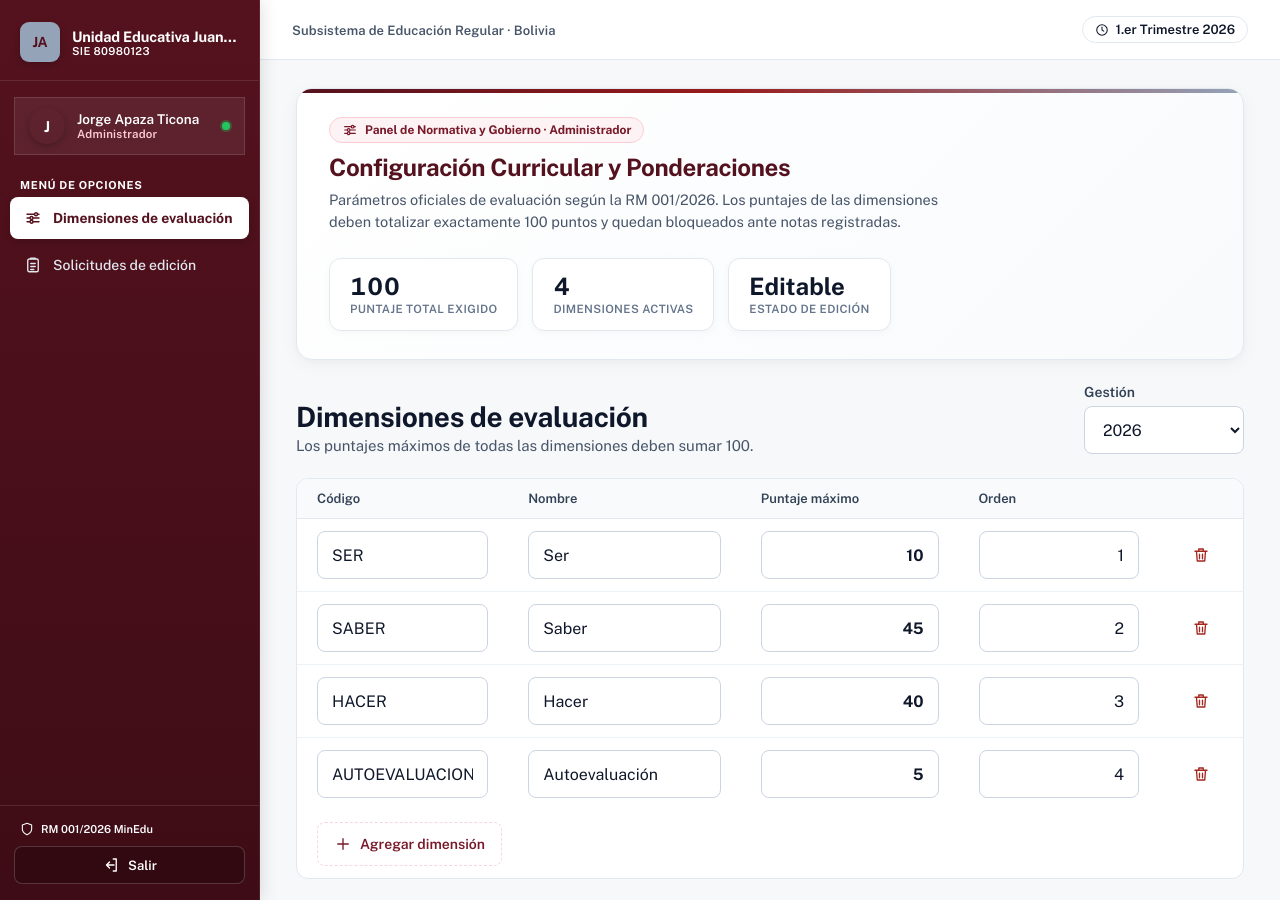
Scenario: Dimensiones de evaluación (US-18, criterios 6 y 7) › debe bloquear la tabla si la gestión ya tiene notas
Click the button named "Quitar Autoevaluación" at [1201, 774], box [1179,752,1223,796]
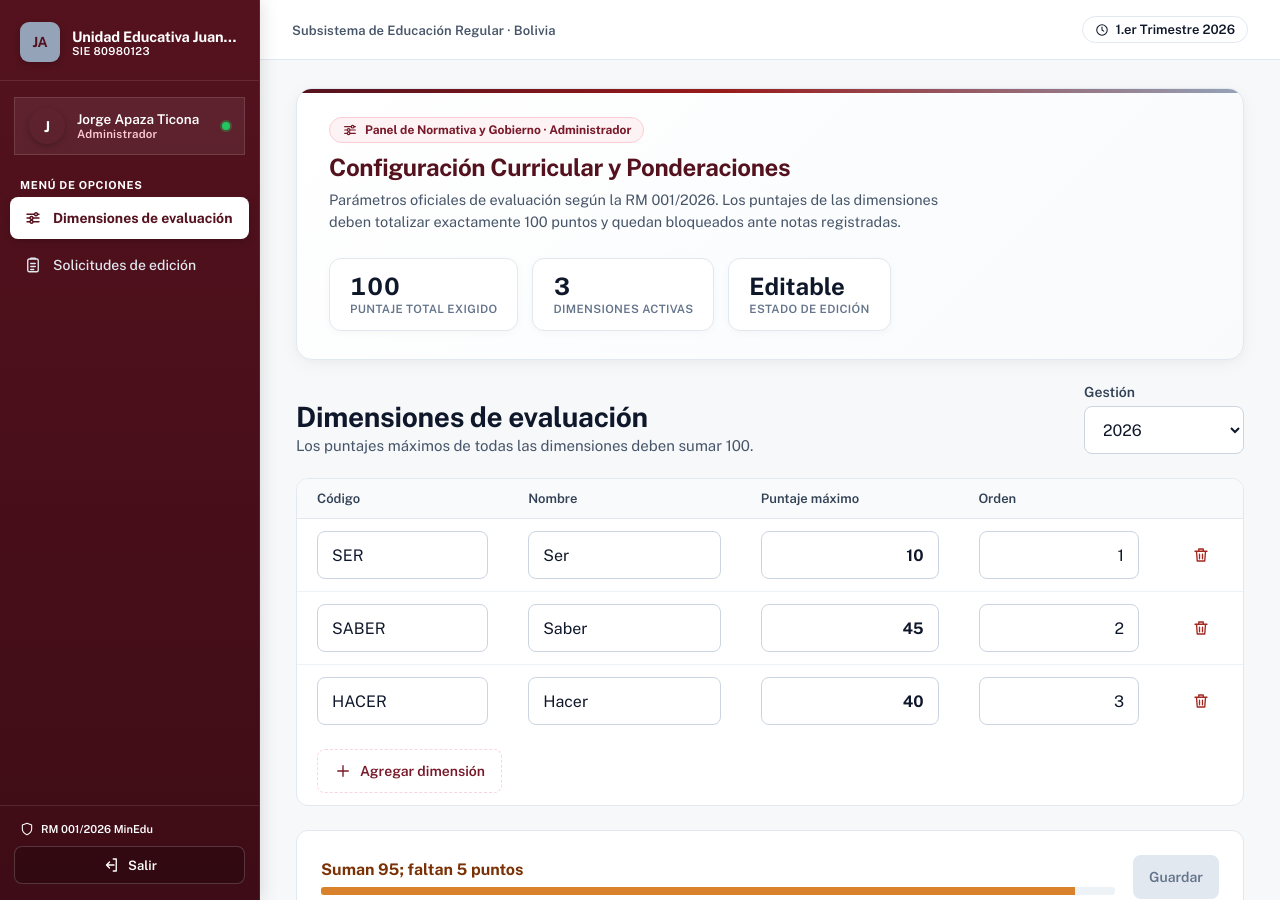
Click the button "Agregar dimensión" at [410, 771], box [317,749,502,793]
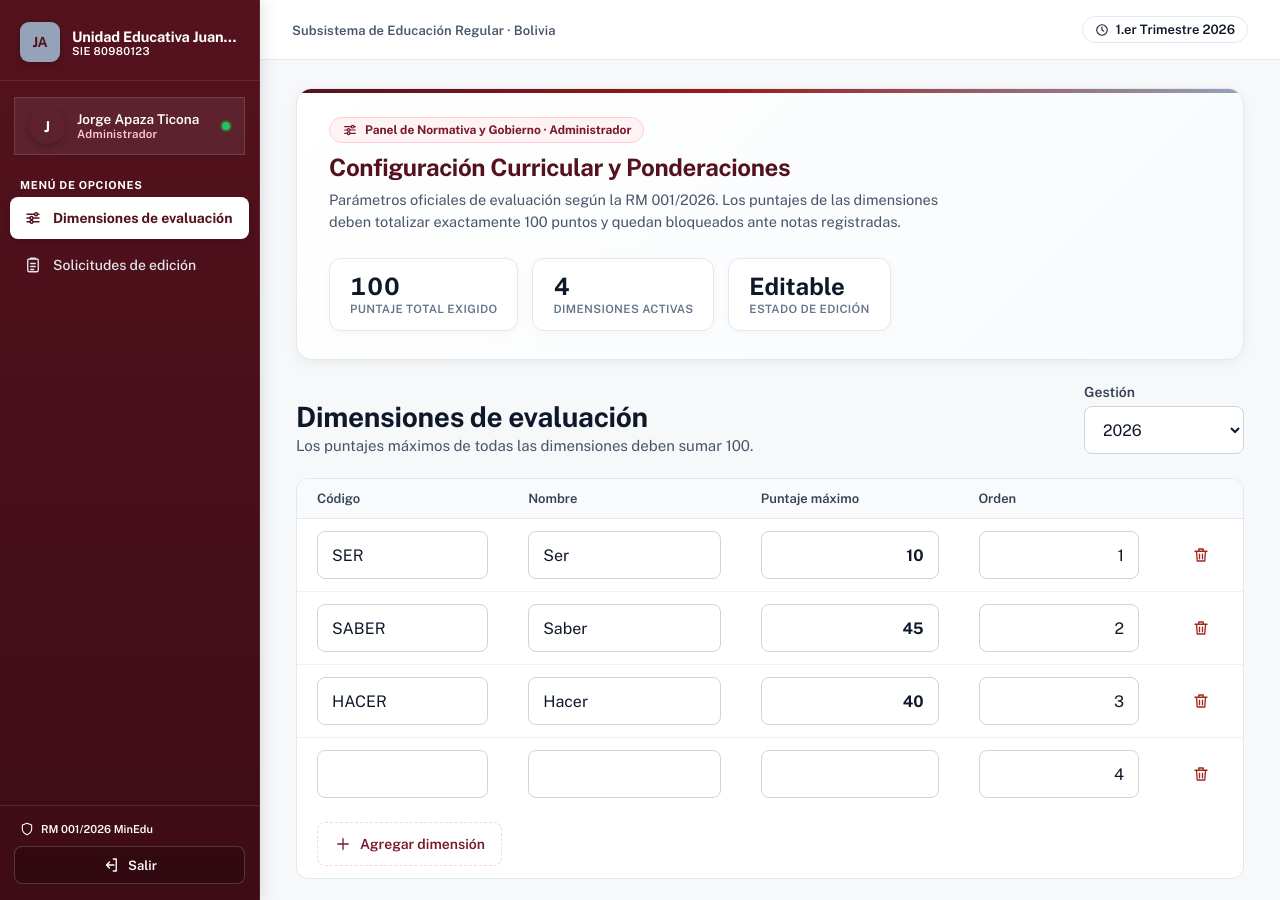
Check: the number of rows is 5, box [297,479,1243,519]; [297,519,1243,592]; [297,592,1243,665]; [297,665,1243,738]; [297,738,1243,810]
Type "auto" into the field named "Código de la dimensión 4" at [403, 774], box [317,750,488,798]
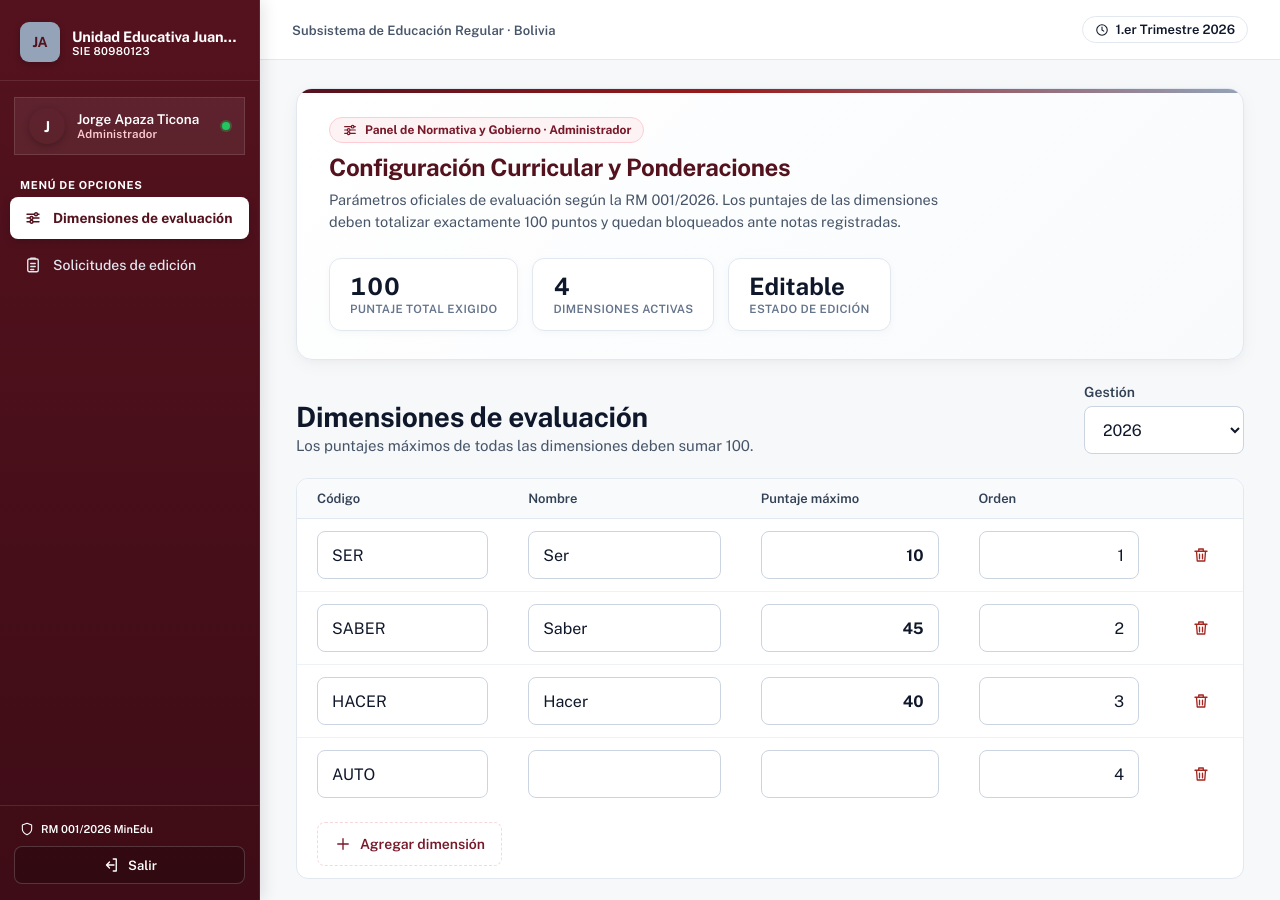
Type "Autoevaluación" into the field named "Nombre de la dimensión 4" at [624, 774], box [528,750,721,798]
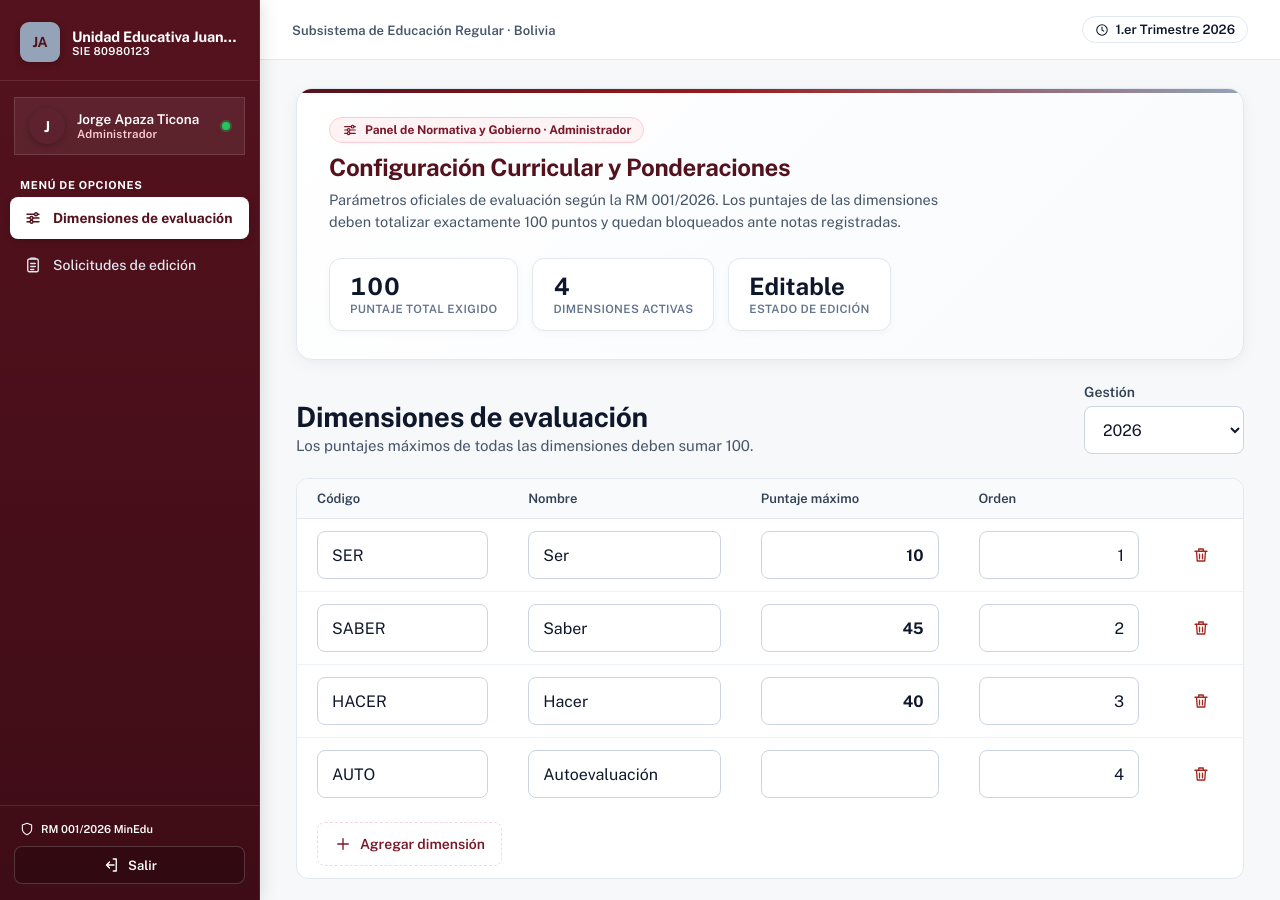
Type "5" into the field named "Puntaje máximo de Autoevaluación" at [850, 774], box [761,750,938,798]
(page scrolled)
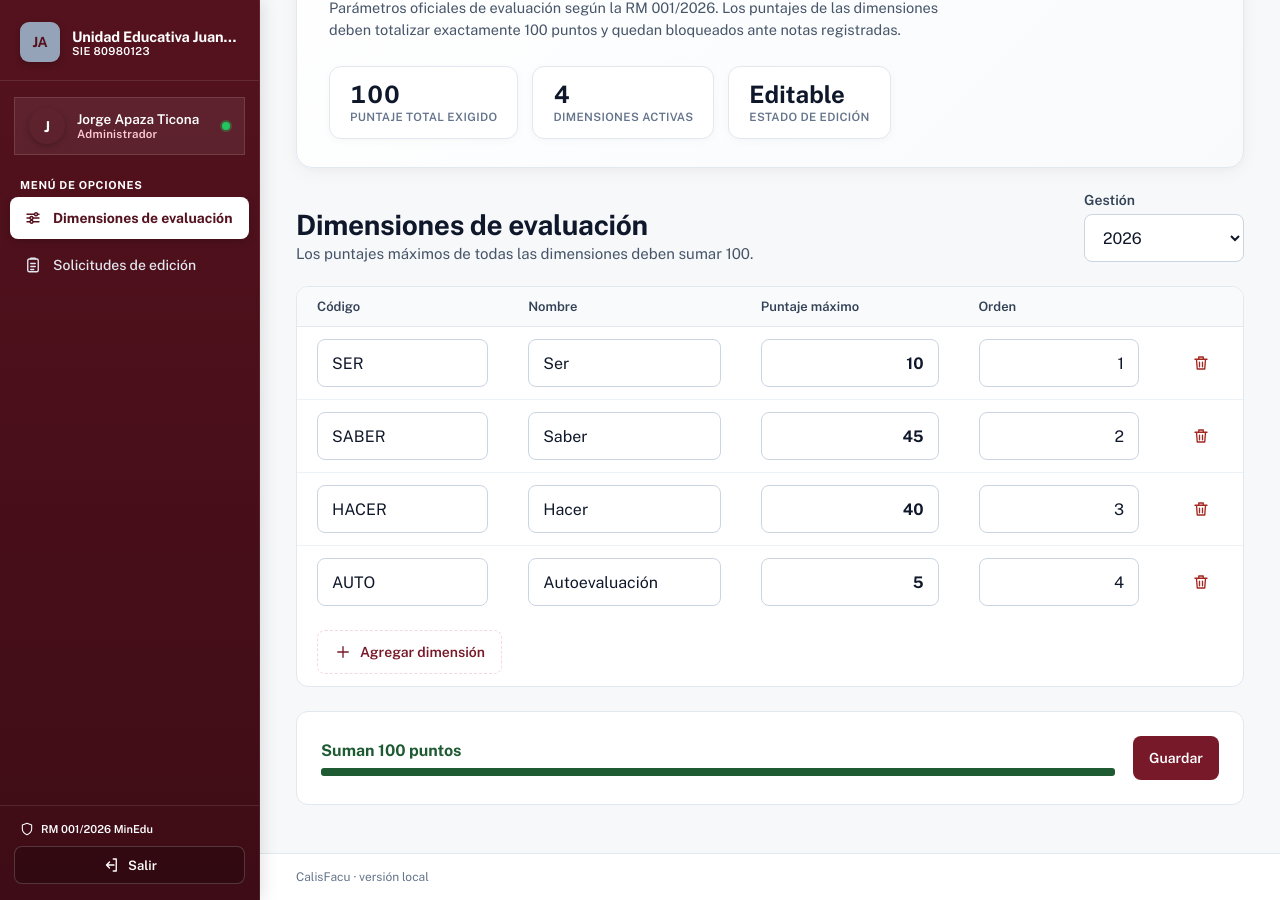
Click the button "Guardar" at [1176, 758], box [1133,736,1219,780]
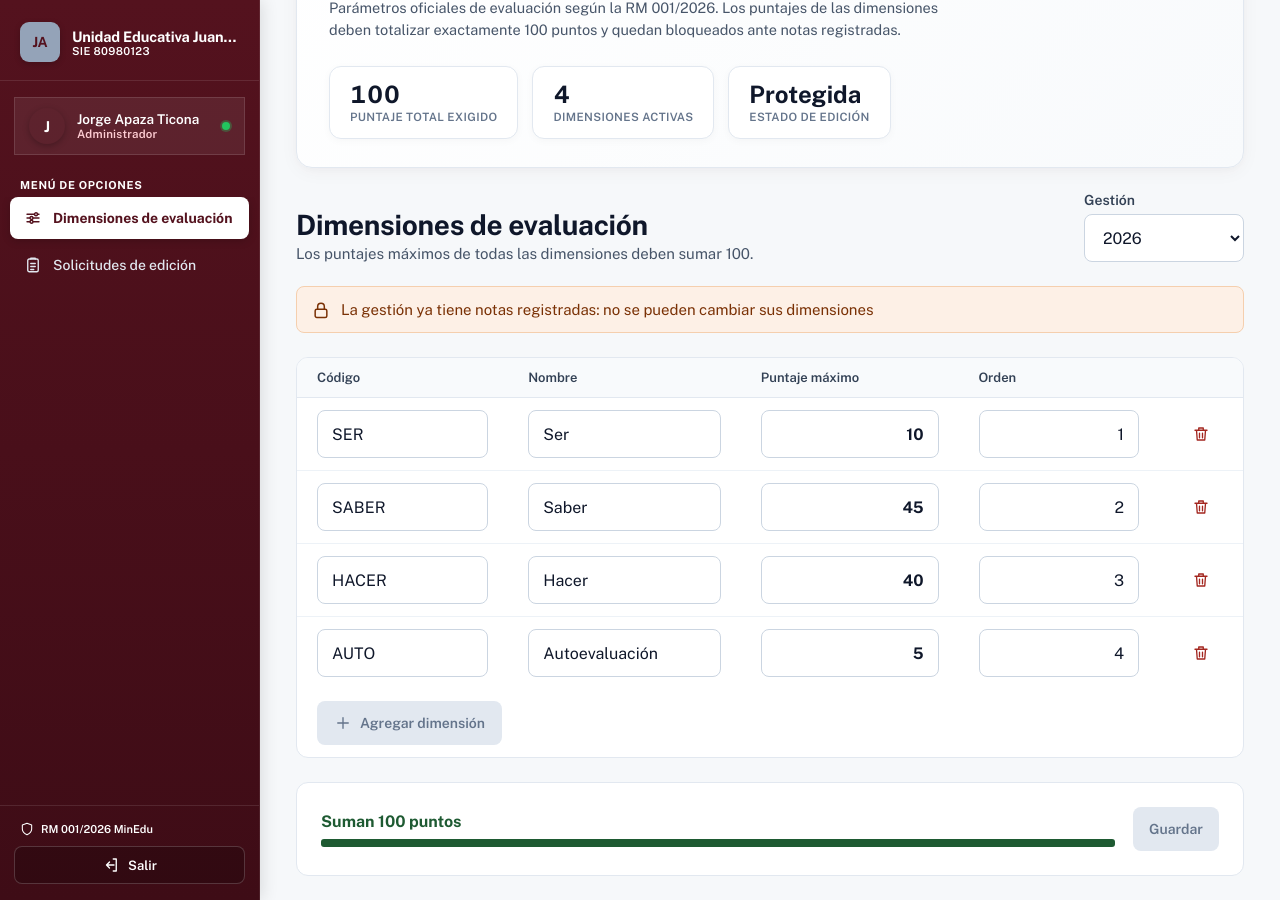
Check: the text "La gestión ya tiene notas registradas: no se pueden cambiar sus dimensiones" is shown, box [341,299,874,320]
Check: the field named "Puntaje máximo de Ser" is disabled, box [761,410,938,458]
